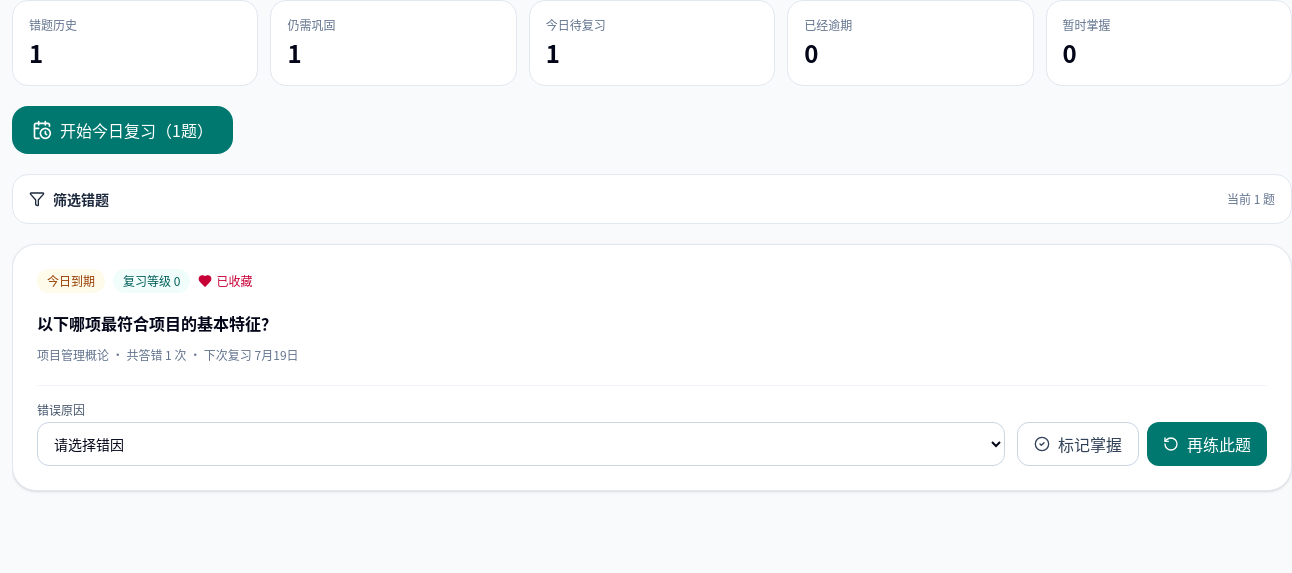
Test case: 错题本 › 可以保存错因并手动暂停自动复习
Step 1. Select "粗心" in the dropdown labelled "错误原因" → (521,444), box [37,422,1005,466]
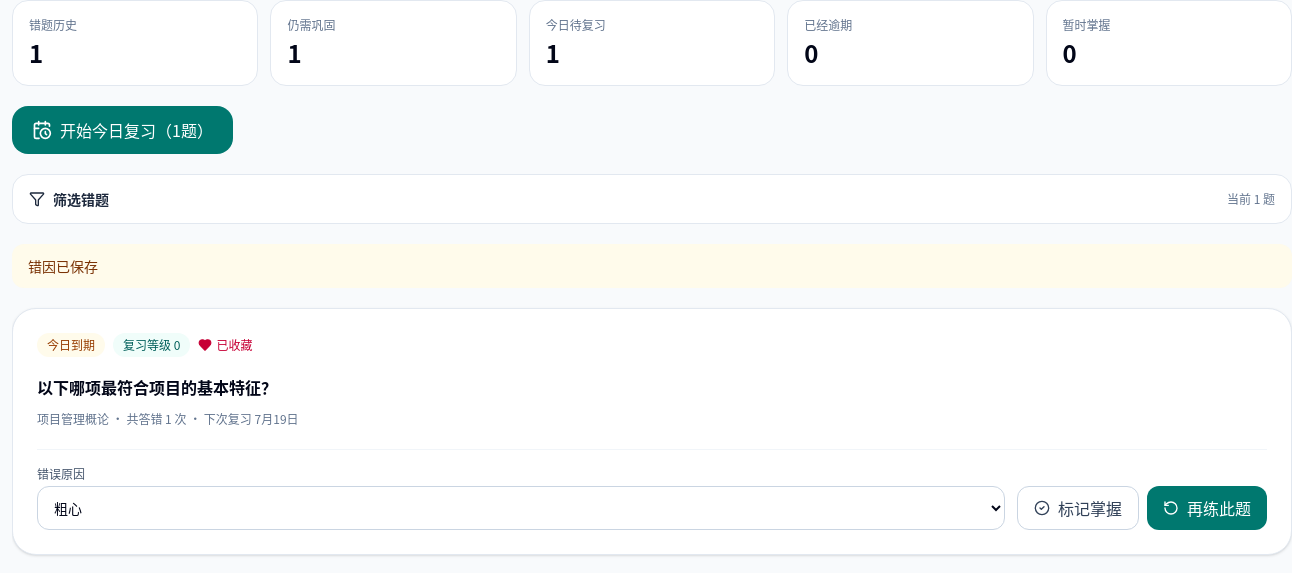
expect the text "错因已保存" is shown: met, box [12,244,1291,288]
Step 2. Click the button "标记掌握" → (1078,508), box [1017,486,1139,530]
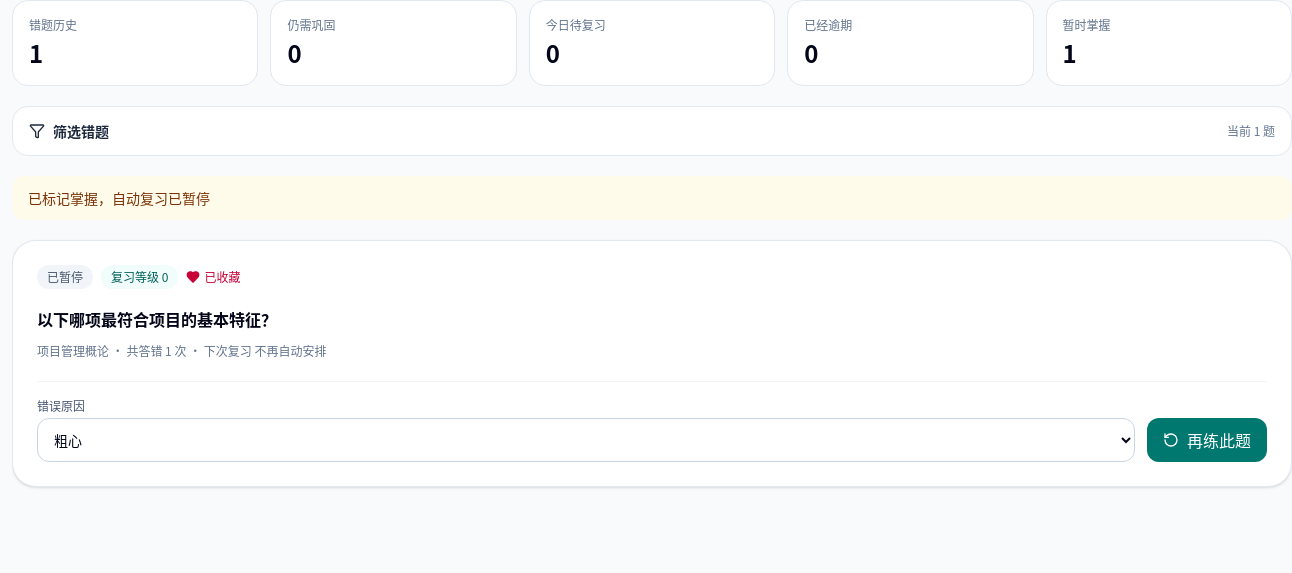
expect the text "已标记掌握，自动复习已暂停" is shown: met, box [12,176,1291,220]
